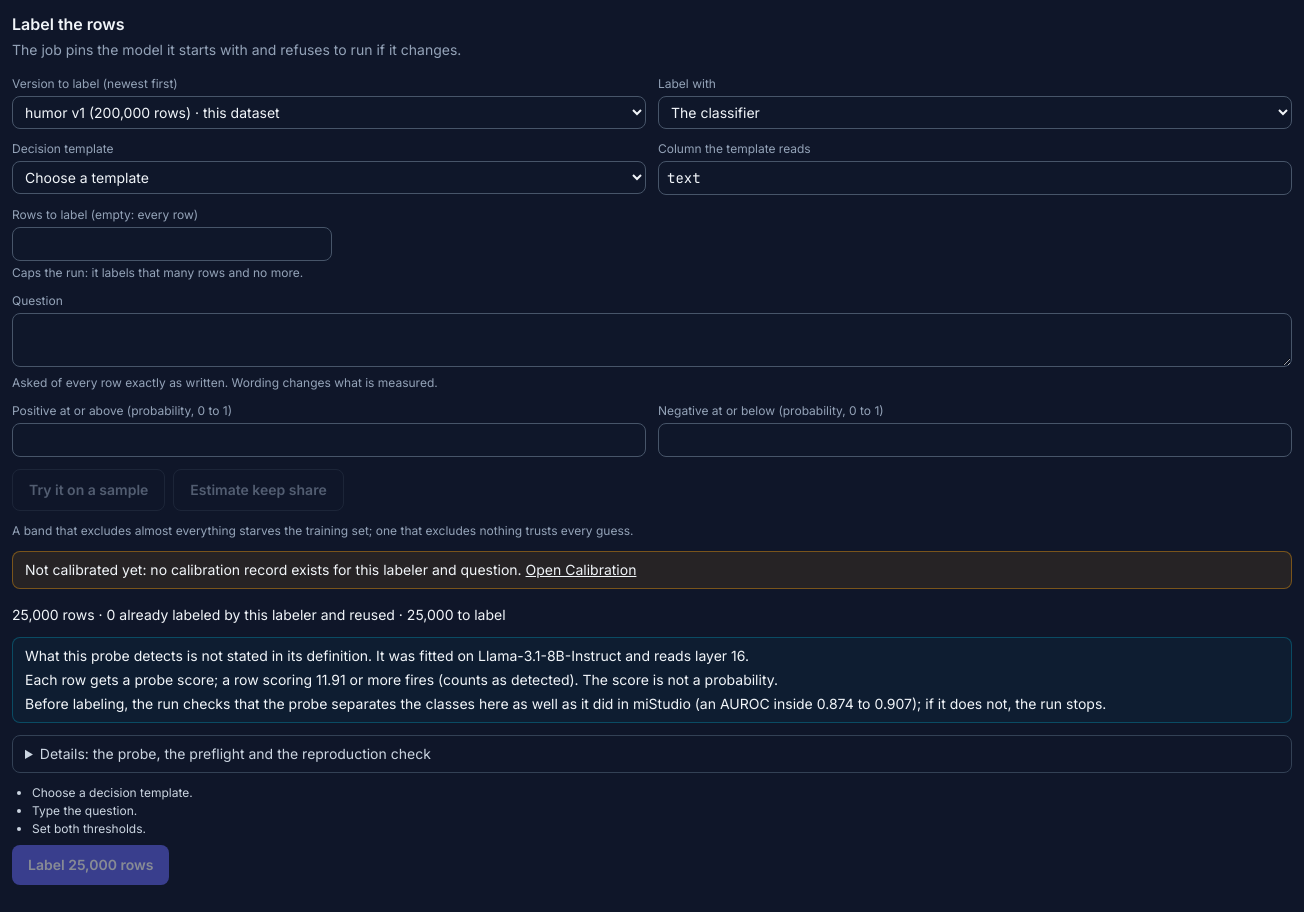
finding 4 and 9: the Label step caps rows and says why it cannot start › a refused plan (model not loaded) names the most it can label and states the block and the action
Select "A probe in miLLM" in the dropdown labelled "Label with" at (975, 112), box [658,96,1292,129]
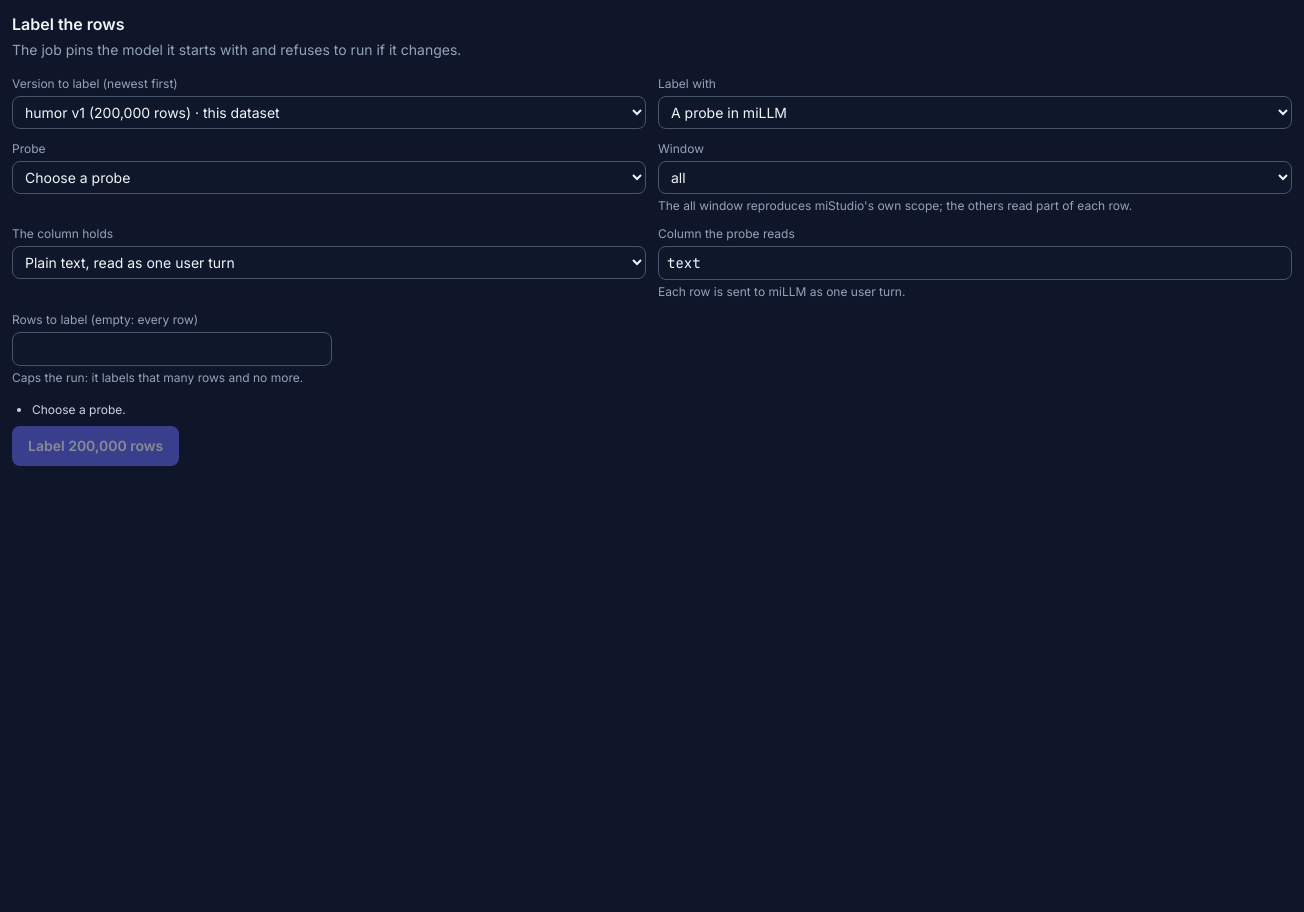
Select "high-stakes vs low-stakes · Llama-3.1-8B-Instruct, layer 16 · high-stakes L16 me" in the dropdown labelled "Probe" at (329, 178), box [12,161,646,194]
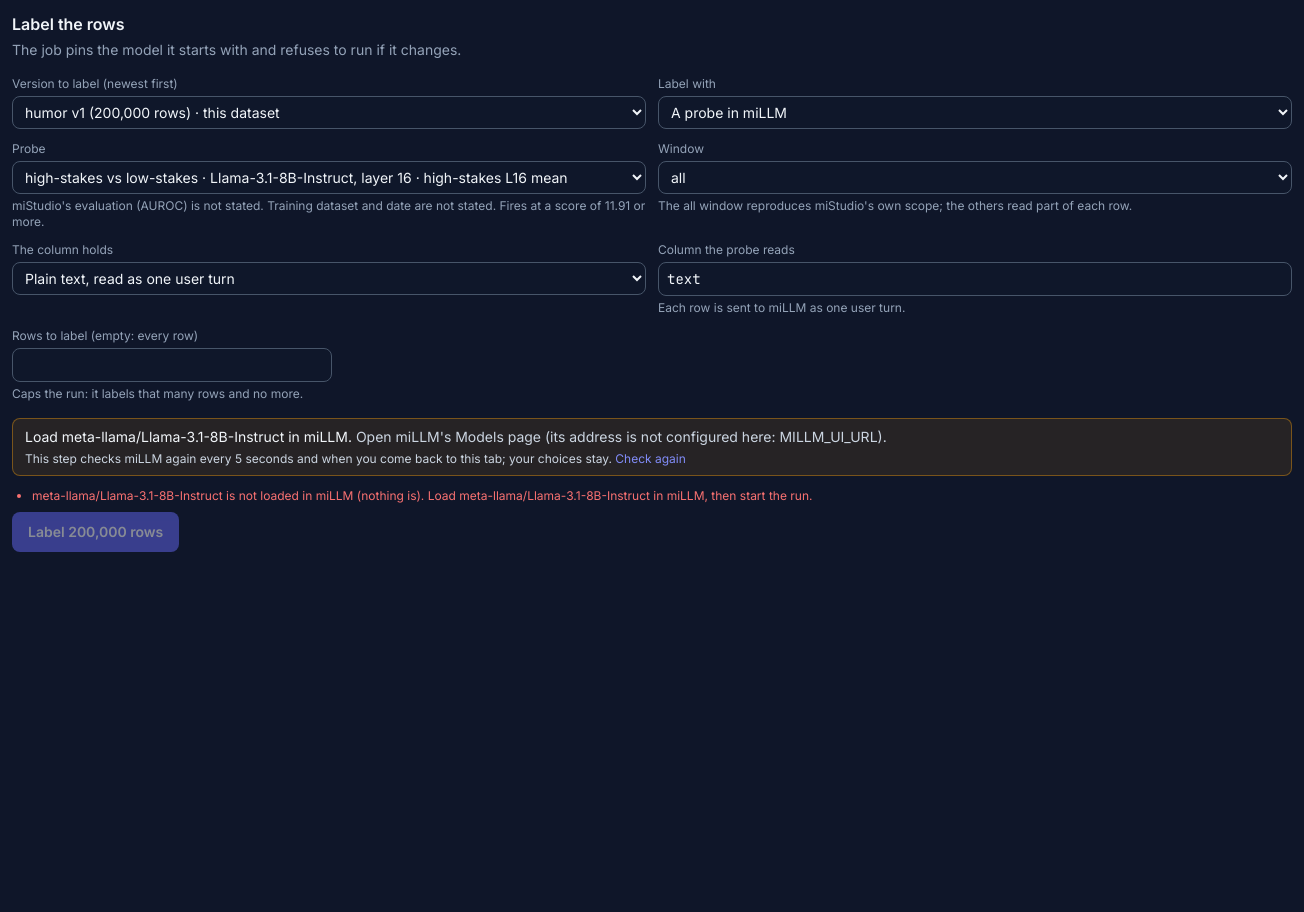
Expected: the button "Label 200,000 rows" is disabled, [12,512,179,552]
Now the text "meta-llama/Llama-3.1-8B-Instruct is not loaded in miLLM (nothing is). Load meta-llama/Llama-3.1-8B-Instruct in miLLM, th" is shown, box [32,488,812,503]
